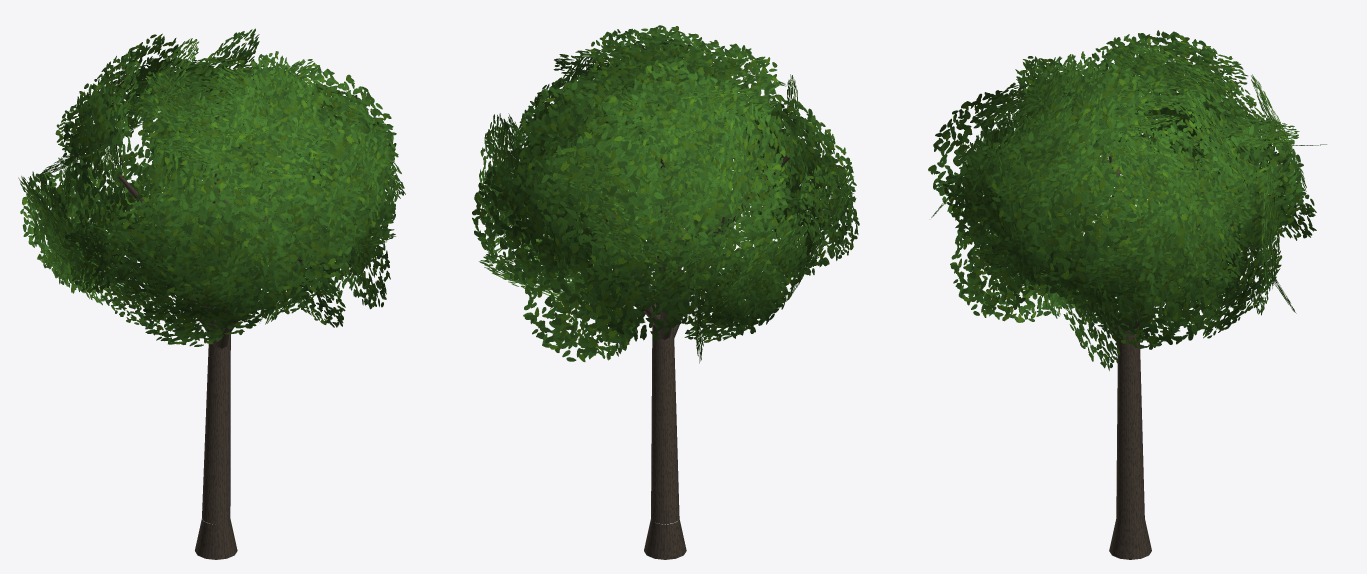
The model's file is plaza_tree.glb.
The picture shows the model from 3 angles, left to right: view 1: azimuth 30°, elevation 25°; view 2: azimuth 150°, elevation 25°; view 3: azimuth 270°, elevation 25°; orthographic projection.
Visible parts, largest first — view 1: Tree Canopy, Tree Trunk; view 2: Tree Canopy, Tree Trunk; view 3: Tree Canopy, Tree Trunk.
Part boxes in pixels (x1=…): Tree Canopy: x1=18, y1=28, x2=405, y2=346; Tree Trunk: x1=111, y1=116, x2=310, y2=559; Tree Canopy: x1=472, y1=25, x2=859, y2=363; Tree Trunk: x1=573, y1=155, x2=789, y2=559; Tree Canopy: x1=928, y1=30, x2=1326, y2=370; Tree Trunk: x1=1071, y1=116, x2=1234, y2=559.
Size of the model in its own units: 4.82 by 6.38 by 4.99.
Materials: 2 (2 with a texture image).
